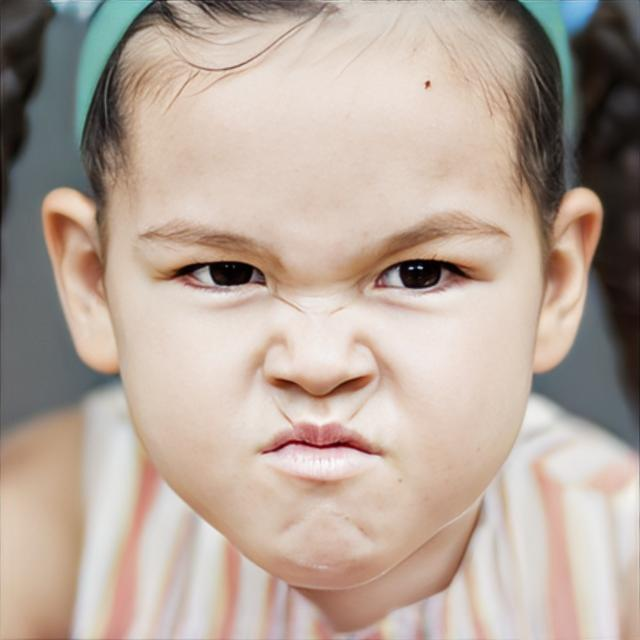anger: (116, 51, 534, 573)
